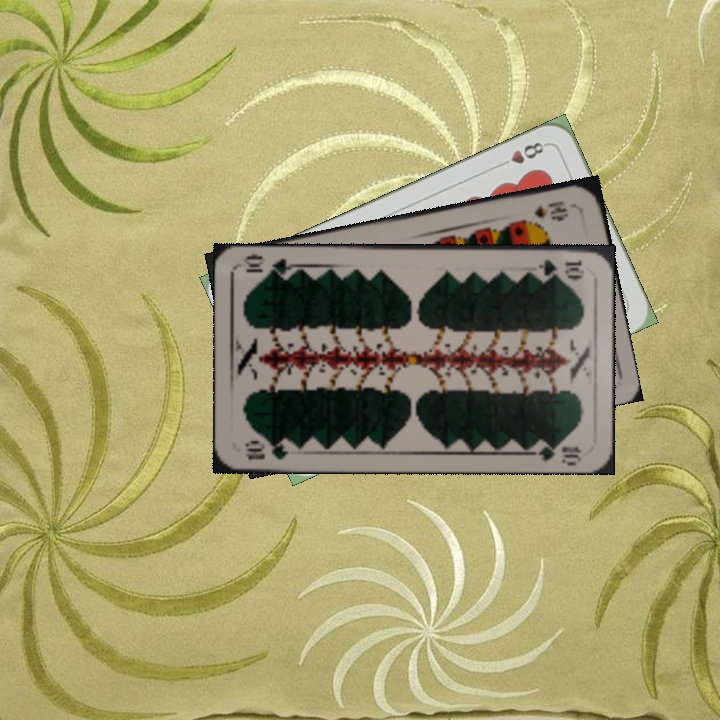G10: (240, 437, 290, 462), (535, 255, 587, 279)
H8: (494, 138, 550, 170)
S10: (530, 196, 577, 222)
